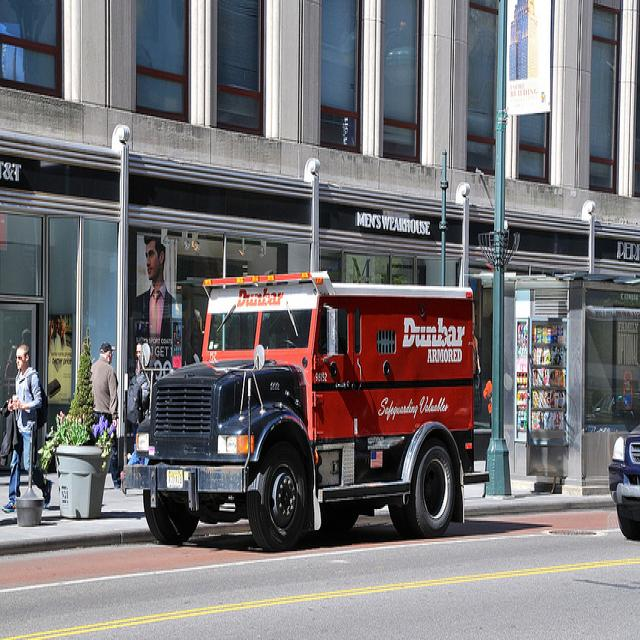Vehicle: (119, 271, 489, 551), (609, 425, 640, 541)
